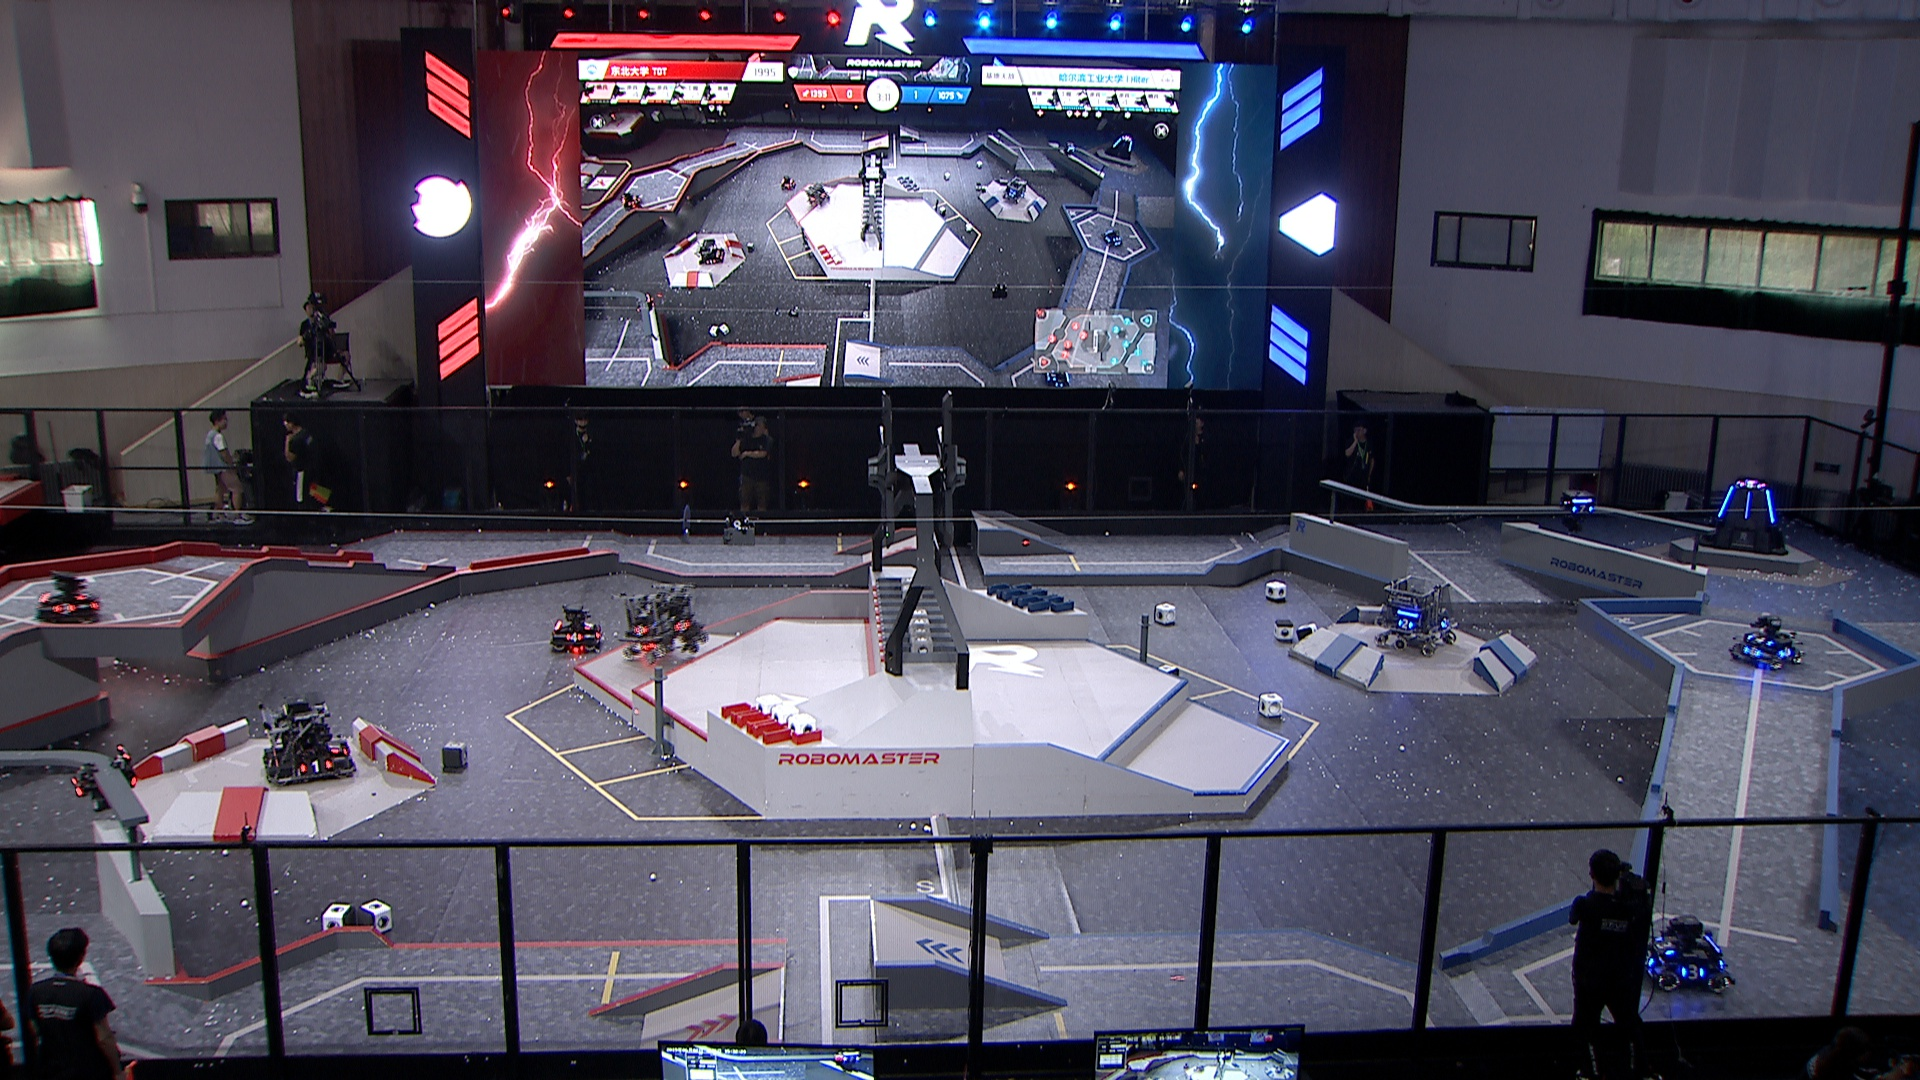armor: (1650, 931, 1679, 960), (1713, 484, 1735, 518), (299, 757, 334, 775), (65, 773, 87, 800), (1636, 944, 1659, 971), (50, 597, 78, 618), (1743, 629, 1774, 647), (1677, 963, 1712, 978), (1764, 487, 1779, 524), (323, 735, 344, 757), (1741, 642, 1764, 659), (1741, 489, 1753, 524), (1396, 613, 1415, 633), (1571, 502, 1596, 517), (673, 616, 694, 633), (564, 628, 585, 644), (1437, 615, 1456, 632), (1776, 646, 1797, 661), (629, 621, 647, 637), (582, 617, 595, 632)
base: (1697, 473, 1789, 556)
car: (251, 695, 357, 789), (1633, 916, 1735, 1000), (615, 580, 707, 669), (1375, 567, 1461, 659), (1724, 607, 1809, 673), (36, 567, 102, 626), (549, 599, 603, 654)
ignore: (1001, 174, 1029, 204), (698, 237, 728, 264), (1106, 135, 1135, 161), (804, 181, 831, 207), (618, 189, 646, 214), (1043, 368, 1073, 389), (1102, 225, 1126, 252), (1738, 476, 1768, 489)
watcher: (65, 740, 146, 820), (1553, 489, 1600, 531)
